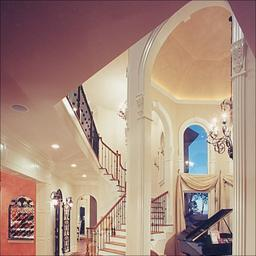Escaleras: (97, 152, 166, 255)
